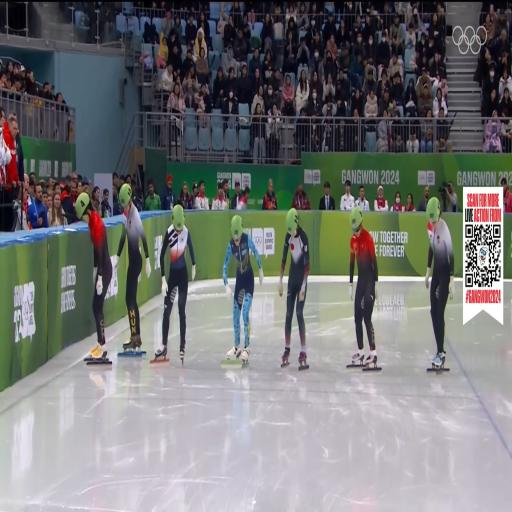Skater: (154, 205, 195, 363), (76, 193, 112, 364), (115, 184, 151, 353), (223, 216, 263, 364), (279, 209, 309, 369), (426, 198, 454, 369), (350, 207, 378, 369)
